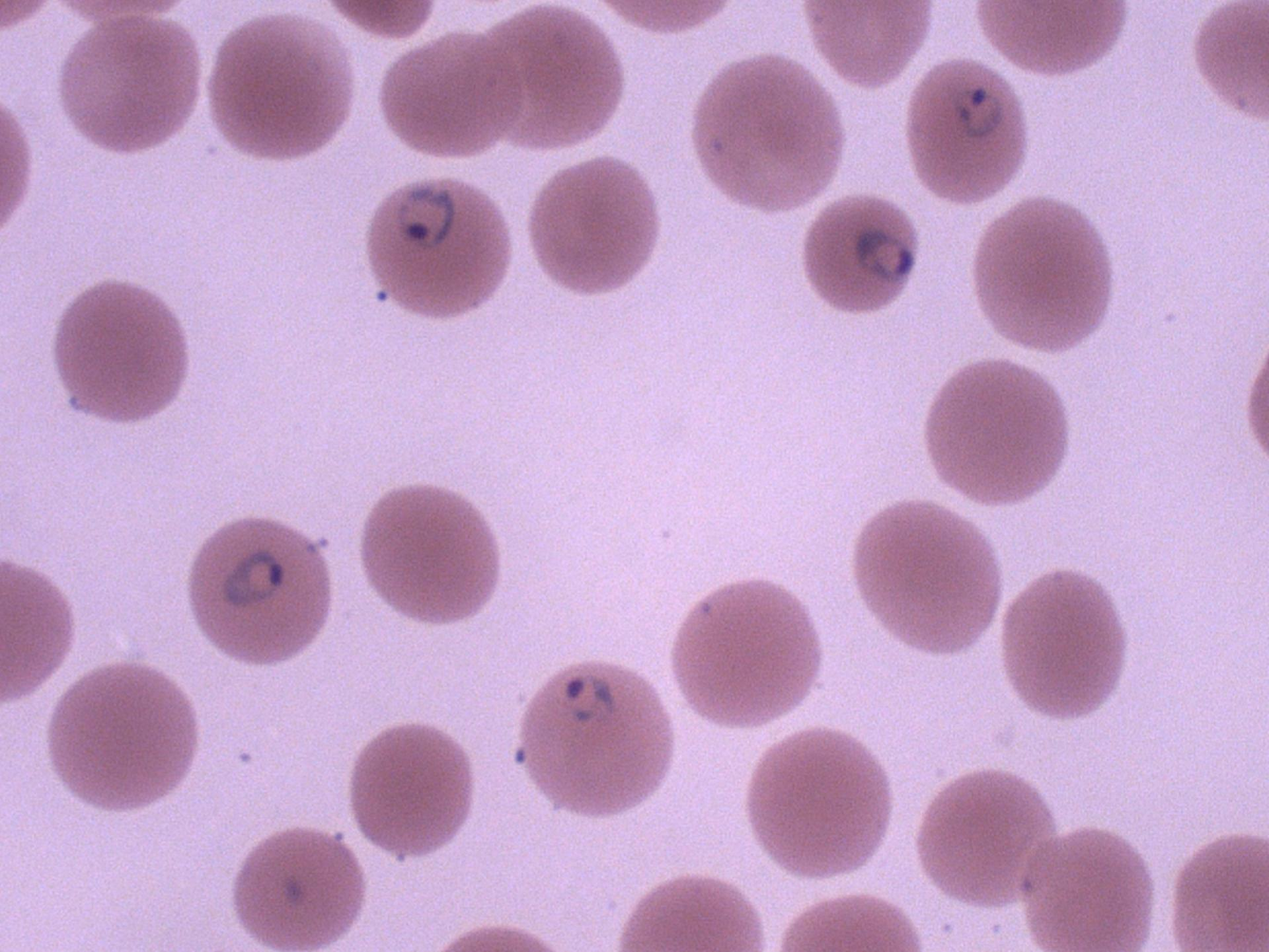Infected: (513, 659, 667, 823), (185, 518, 333, 671), (361, 178, 518, 319), (903, 60, 1027, 207), (806, 188, 916, 313)
Uninfected: (670, 575, 817, 736), (857, 498, 997, 663), (690, 60, 840, 210), (44, 668, 195, 812), (476, 3, 627, 147), (923, 364, 1074, 504), (974, 197, 1110, 351), (63, 9, 203, 157), (910, 769, 1059, 908), (214, 16, 354, 162), (51, 276, 188, 422), (753, 721, 887, 870), (364, 479, 498, 623), (370, 36, 527, 156), (1005, 569, 1127, 720), (227, 822, 364, 952), (533, 155, 658, 297), (1027, 820, 1156, 952), (344, 727, 476, 854)
